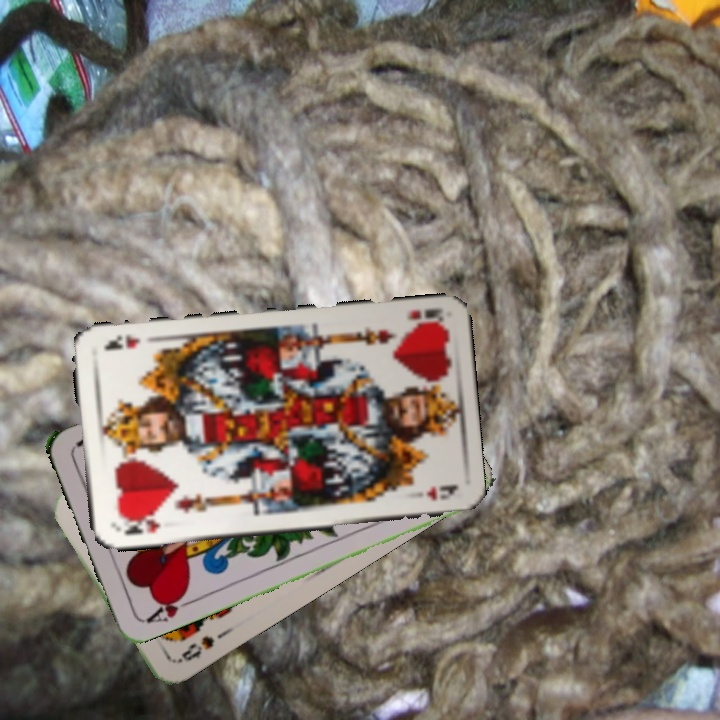HA: (141, 587, 198, 626)
HK: (113, 512, 163, 538), (403, 304, 445, 331)
S8: (165, 631, 217, 667)
